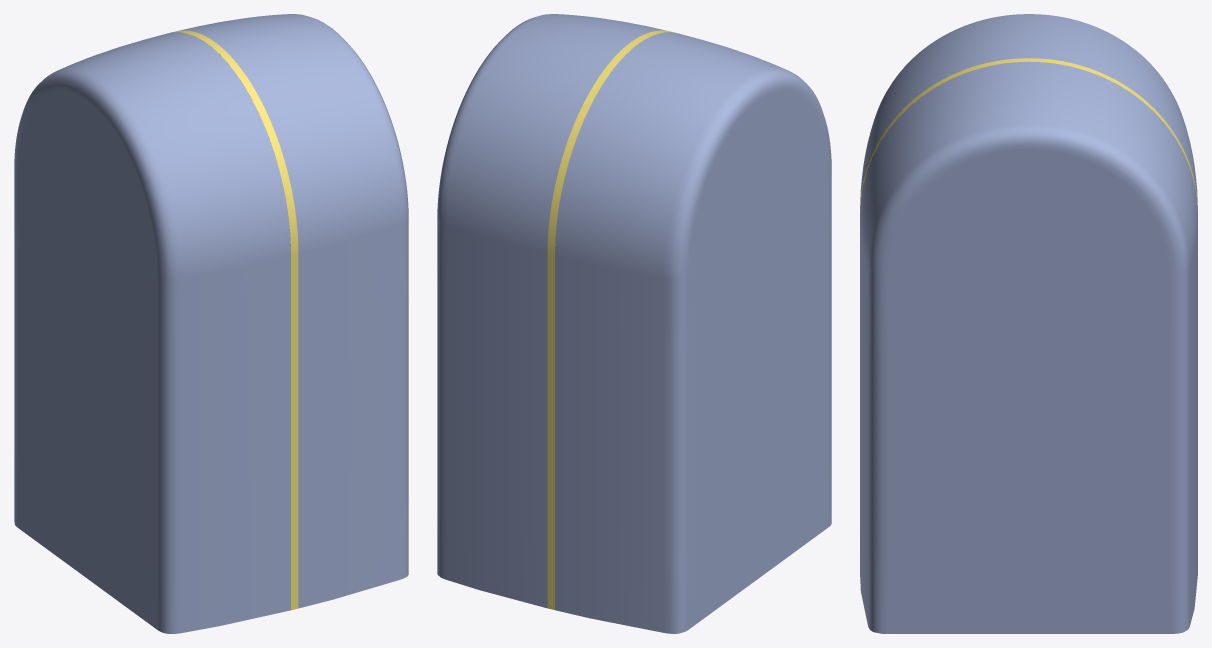
Rendered from 小原子左胯.glb.
3 views of the same model, side by side, from view 1: azimuth 30°, elevation 25°; view 2: azimuth 150°, elevation 25°; view 3: azimuth 270°, elevation 25° (orthographic).
Bounding box in the file's own units: 0.0662 × 0.1288 × 0.0769.
